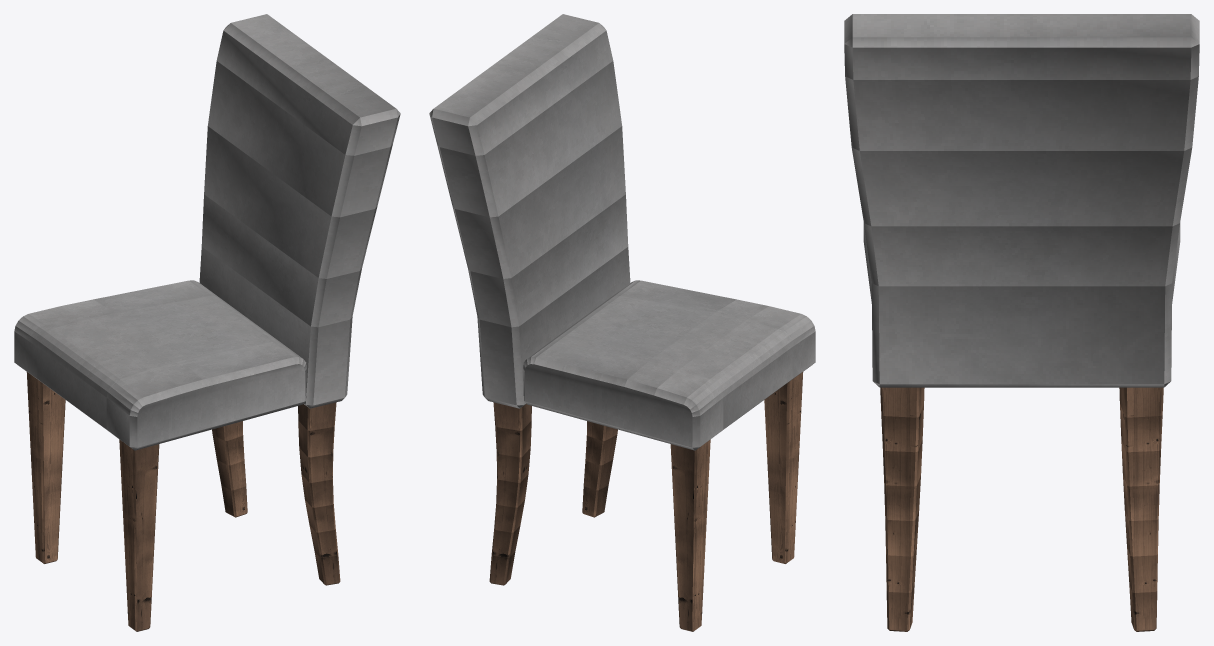
The model's file is chair.glb.
The picture shows the model from 3 angles, left to right: view 1: azimuth 30°, elevation 25°; view 2: azimuth 150°, elevation 25°; view 3: azimuth 270°, elevation 25°; orthographic projection. The views are drawn at different scales.
Visible parts, largest first — view 1: Chair_Apt_01, Legs Chair; view 2: Chair_Apt_01, Legs Chair; view 3: Chair_Apt_01, Legs Chair.
Part boxes in pixels (<box>): Chair_Apt_01: <box>14,14,400,450</box>; Legs Chair: <box>26,372,340,631</box>; Chair_Apt_01: <box>429,14,815,450</box>; Legs Chair: <box>489,372,803,631</box>; Chair_Apt_01: <box>844,14,1199,387</box>; Legs Chair: <box>880,387,1163,631</box>.
Bounding box in the file's own units: 0.5356 × 0.92 × 0.477.
Materials: 2 (2 with a texture image).
